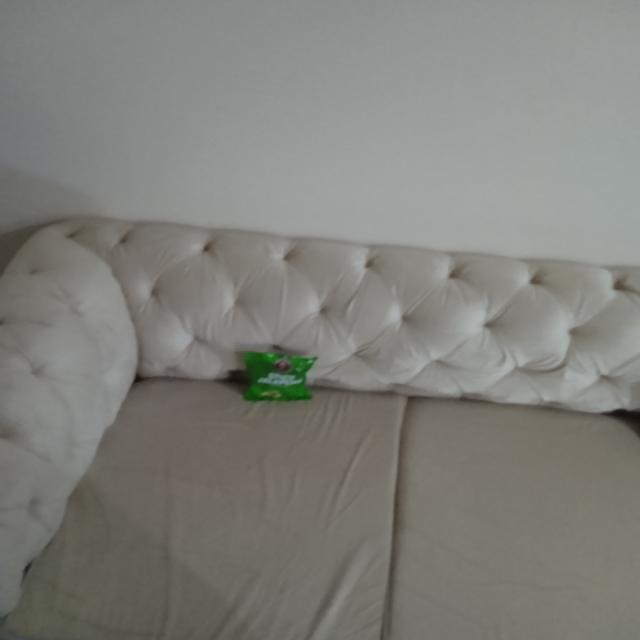Plastic: (252, 348, 316, 398)
